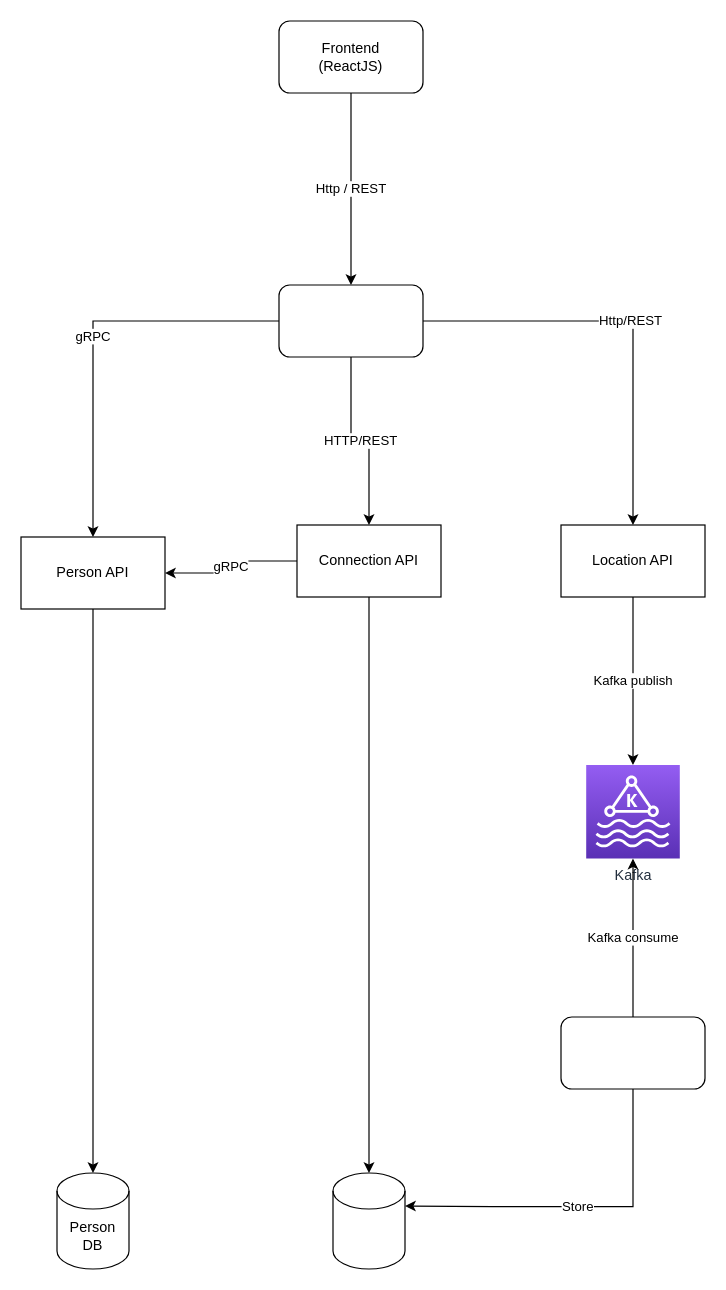
Some shapes in this 726 by 1290 pixel diagram are drawn without their labels. The box of each missing label's shape, as (x1, y1, x2, y2) in pixels:
Location Consumer Service: (560, 1016, 705, 1089)
Location DB: (332, 1172, 405, 1269)
UdaConnect API (BFF): (278, 284, 423, 357)
